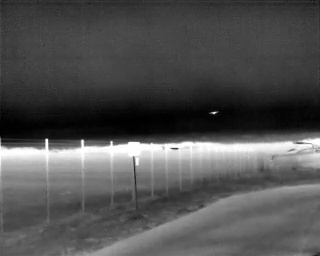AIRPLANE: (208, 108, 220, 117)
